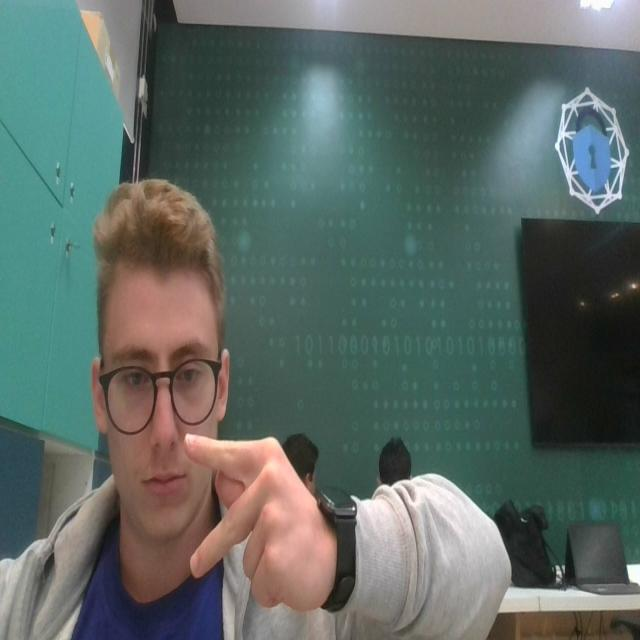P: (182, 420, 323, 615)
